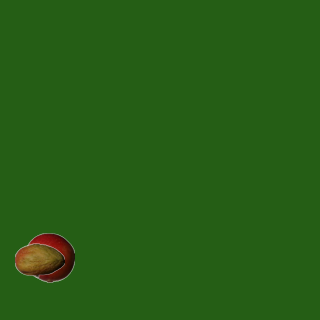Apple Braeburn: (24, 232, 74, 282)
Papaya: (14, 235, 64, 285)
